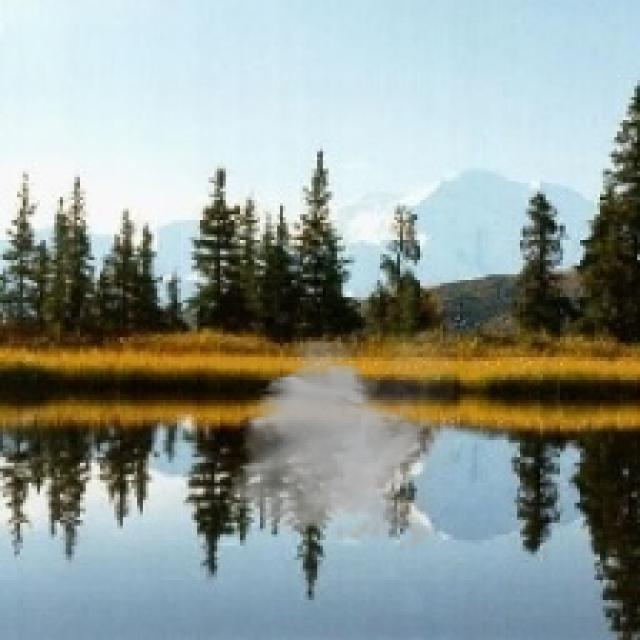Smoke: (228, 332, 454, 557)
